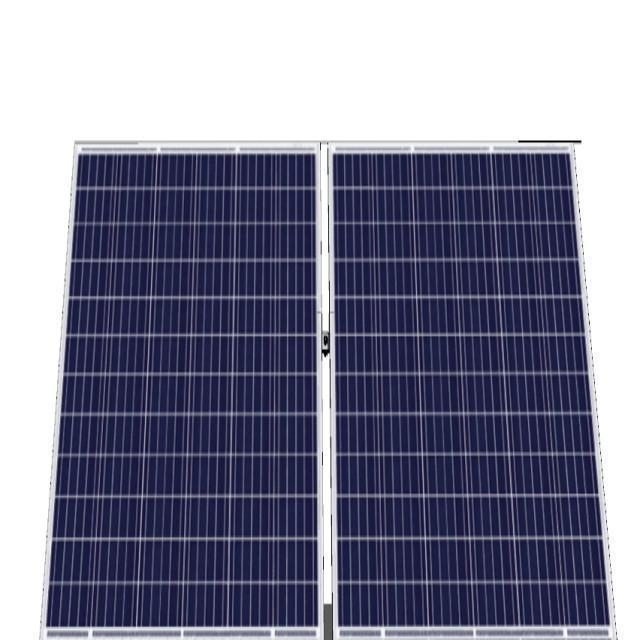Normal Solar Panel: (330, 146, 613, 627), (42, 146, 319, 631)
